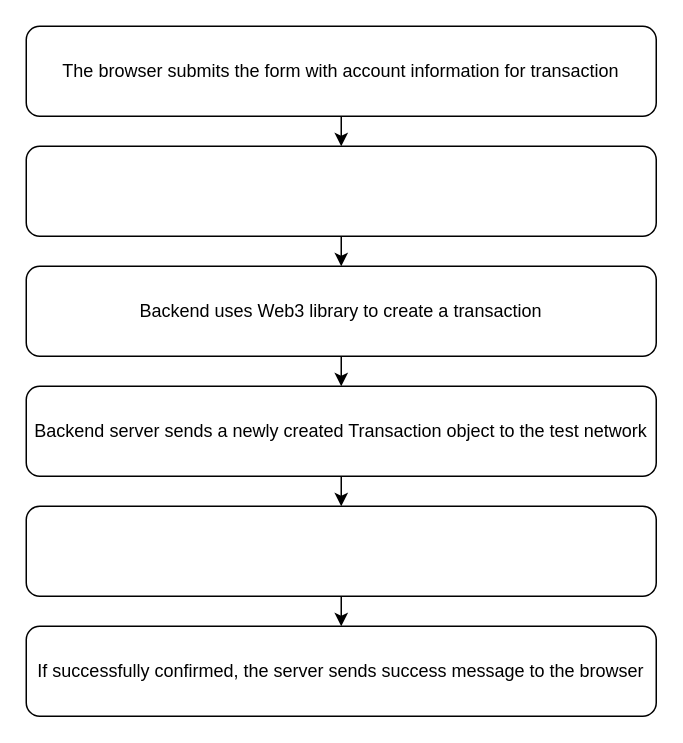
Image size: 683x743. Some labels were removed from this diagram. The shapes that lost their labels are listed below. From the top down, each one's centre as x and y in pixels, then its label:
the point at 340,190: Account information sent to the server
the point at 340,550: Backend server waits for transaction to be confirmed by the network
